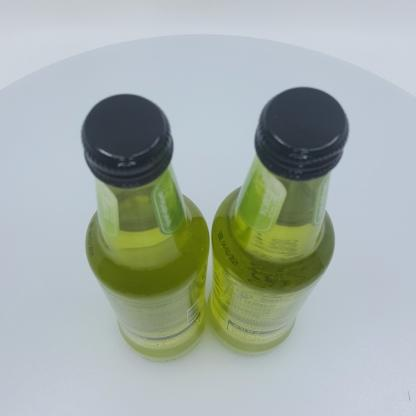----------------: (209, 86, 350, 356), (79, 93, 210, 362)
